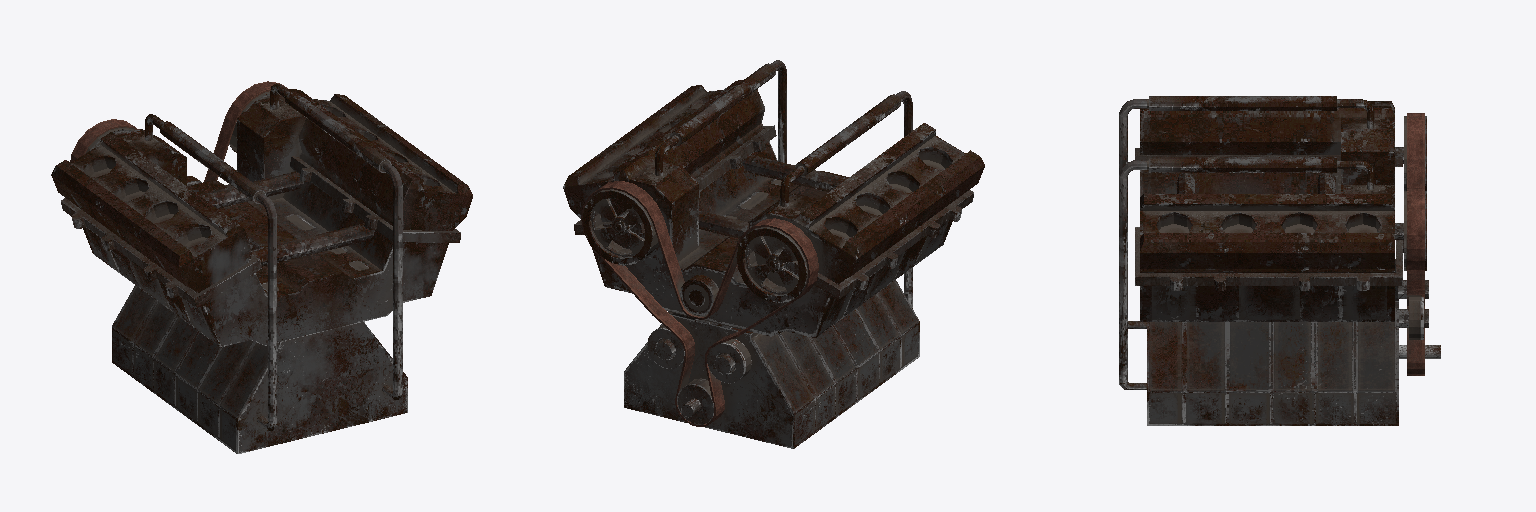
3 renders of one model, left to right at view 1: azimuth 30°, elevation 25°; view 2: azimuth 150°, elevation 25°; view 3: azimuth 270°, elevation 25°, orthographic.
Parts seen in each view (by area): view 1: rotite_low_Untitled.004; view 2: rotite_low_Untitled.004; view 3: rotite_low_Untitled.004.
Boxes of the visible parts, box(x1,y1,x2,y2) form: rotite_low_Untitled.004: box(51, 81, 472, 453); rotite_low_Untitled.004: box(563, 60, 984, 448); rotite_low_Untitled.004: box(1119, 96, 1440, 425).
Size of the model in its own units: 3.27 by 2.74 by 3.11.
1 materials, 1 textured.